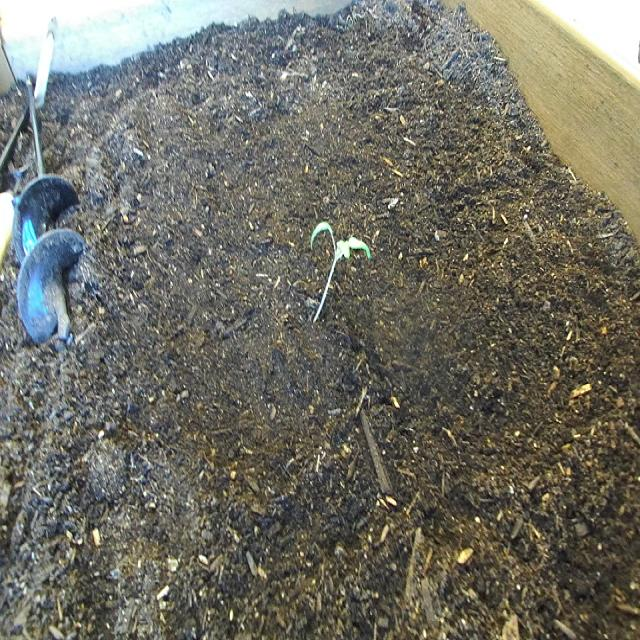Healthy: (306, 212, 371, 340)
